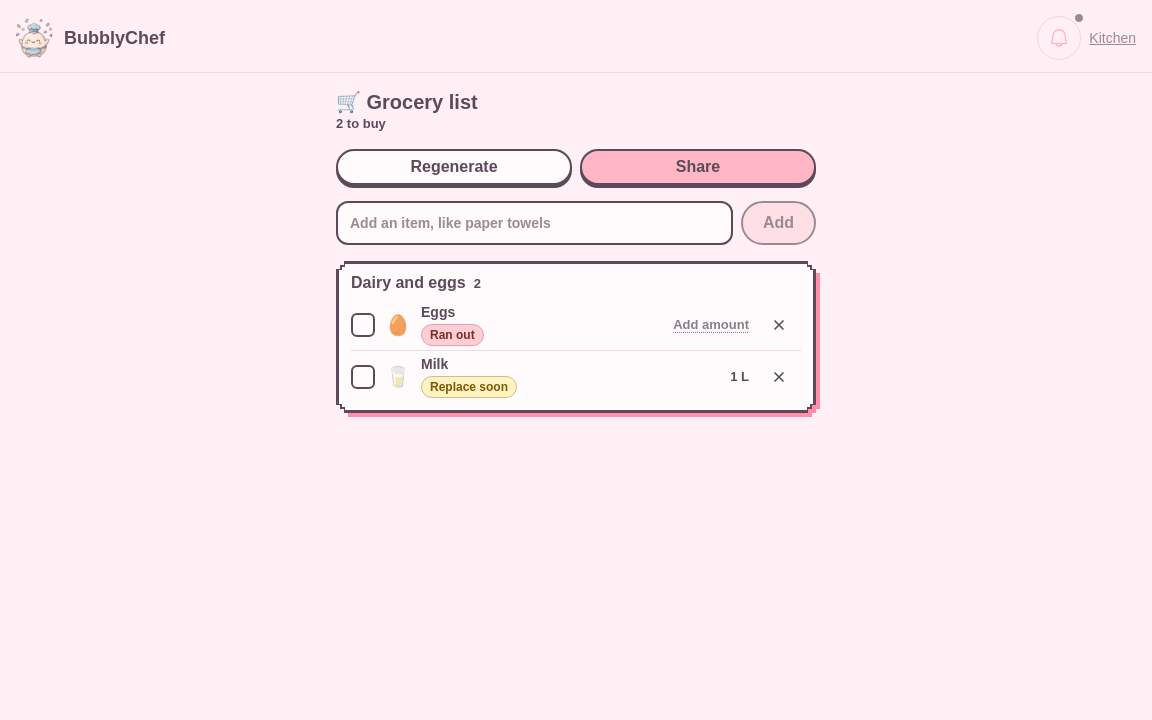
Test: /grocery: checking off › clears the "Got it" lines
Click the checkbox labelled "🥚 Eggs Ran out". click: (438, 312)
box: [351, 304, 484, 346]
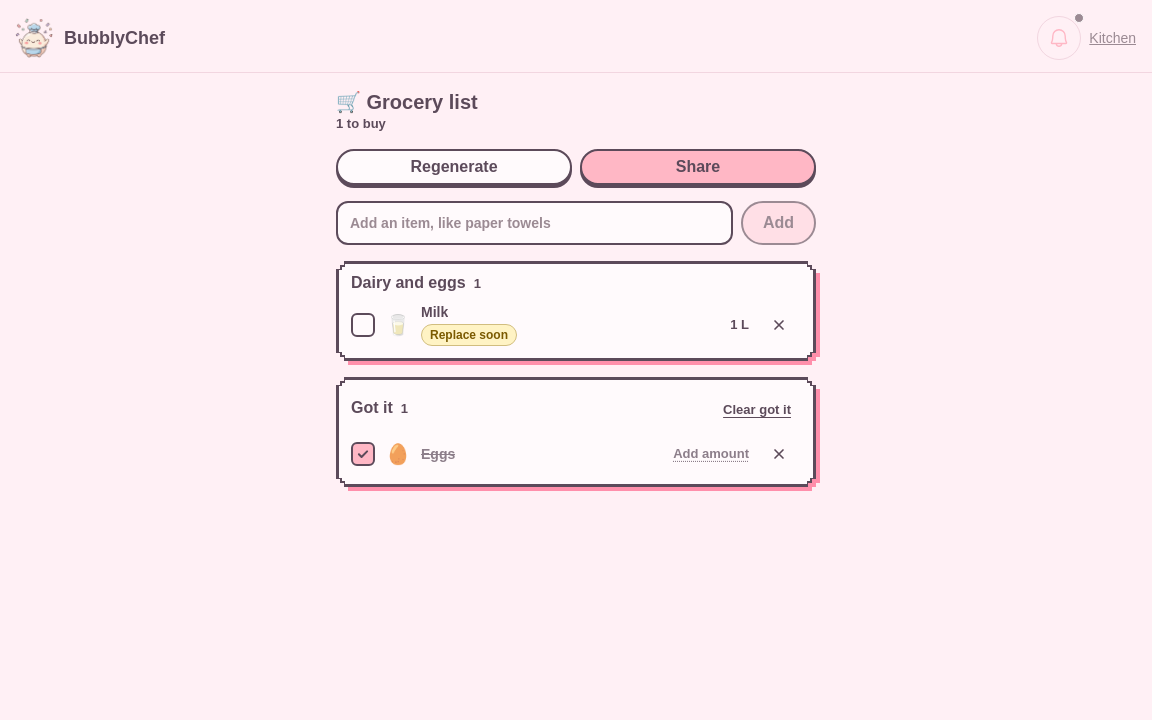
Click the button "Clear got it". click: (757, 410)
box: [713, 388, 801, 432]
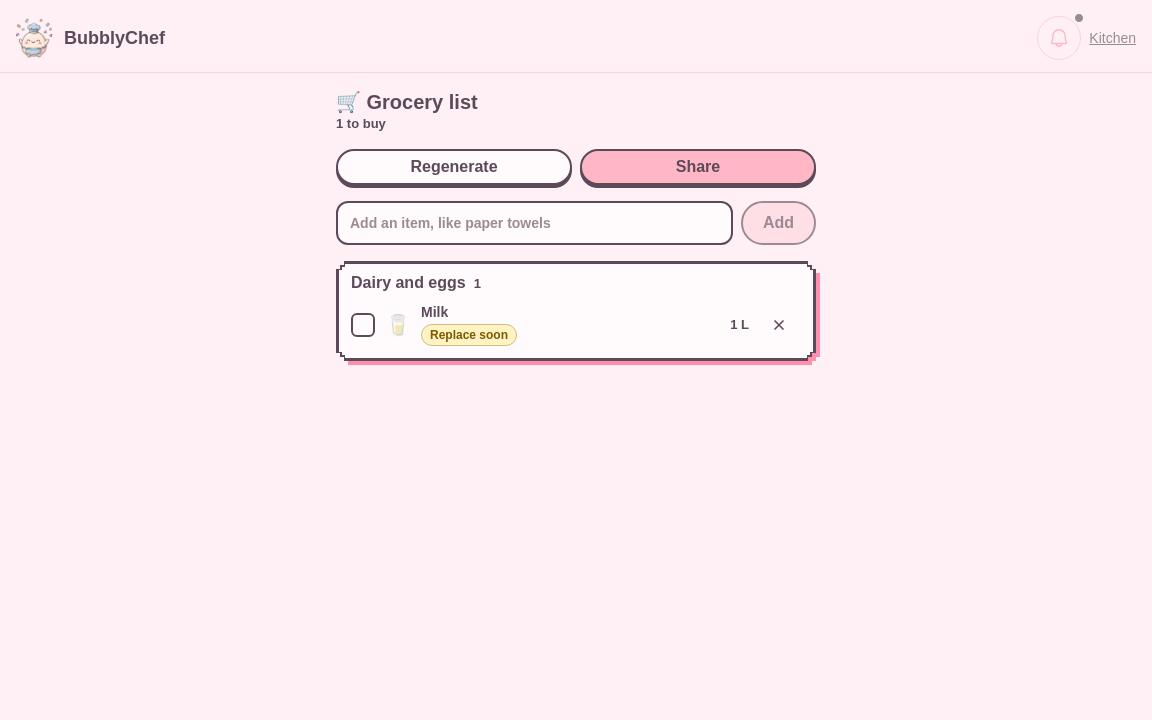
Expected: the heading "Got it" is gone
